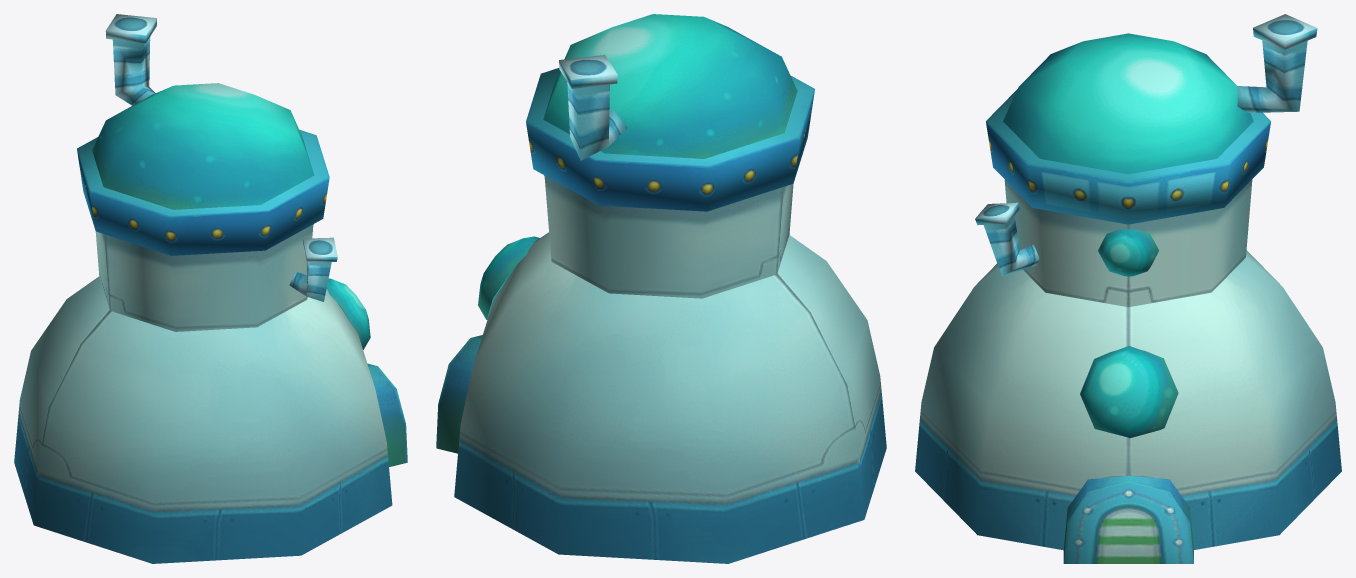
Rendered from cj_jianzhu11.fbx.
3 renders of one model, left to right at view 1: azimuth 30°, elevation 25°; view 2: azimuth 150°, elevation 25°; view 3: azimuth 270°, elevation 25°, orthographic. The views are drawn at different scales.
Visible parts, largest first — view 1: di1, ding2, ding1, yanqiong, men; view 2: di1, ding2, ding1, yanqiong, men; view 3: di1, ding2, ding1, men, yanqiong.
Boxes of the visible parts, box(x1,y1,x2,y2) form: di1: box(14, 276, 392, 563); ding2: box(77, 129, 337, 331); ding1: box(92, 83, 314, 209); yanqiong: box(105, 14, 156, 105); men: box(367, 363, 407, 466); di1: box(454, 232, 886, 563); ding2: box(526, 68, 814, 298); ding1: box(543, 14, 797, 158); yanqiong: box(559, 55, 627, 160); men: box(436, 335, 482, 453); di1: box(915, 250, 1341, 550); ding2: box(975, 89, 1270, 307); ding1: box(1003, 33, 1253, 174); men: box(1063, 475, 1193, 563); yanqiong: box(1237, 14, 1317, 112).
Bounding box in the file's own units: 3778 × 4270 × 3720.
